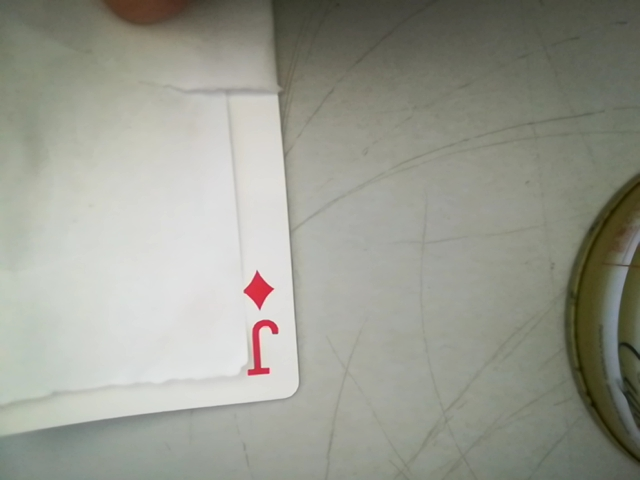fk j: (227, 261, 285, 388)
